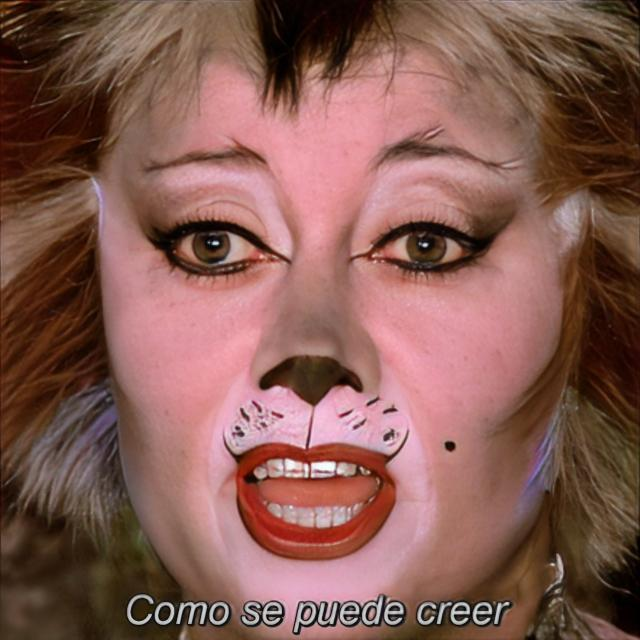fear: (98, 4, 590, 640)
